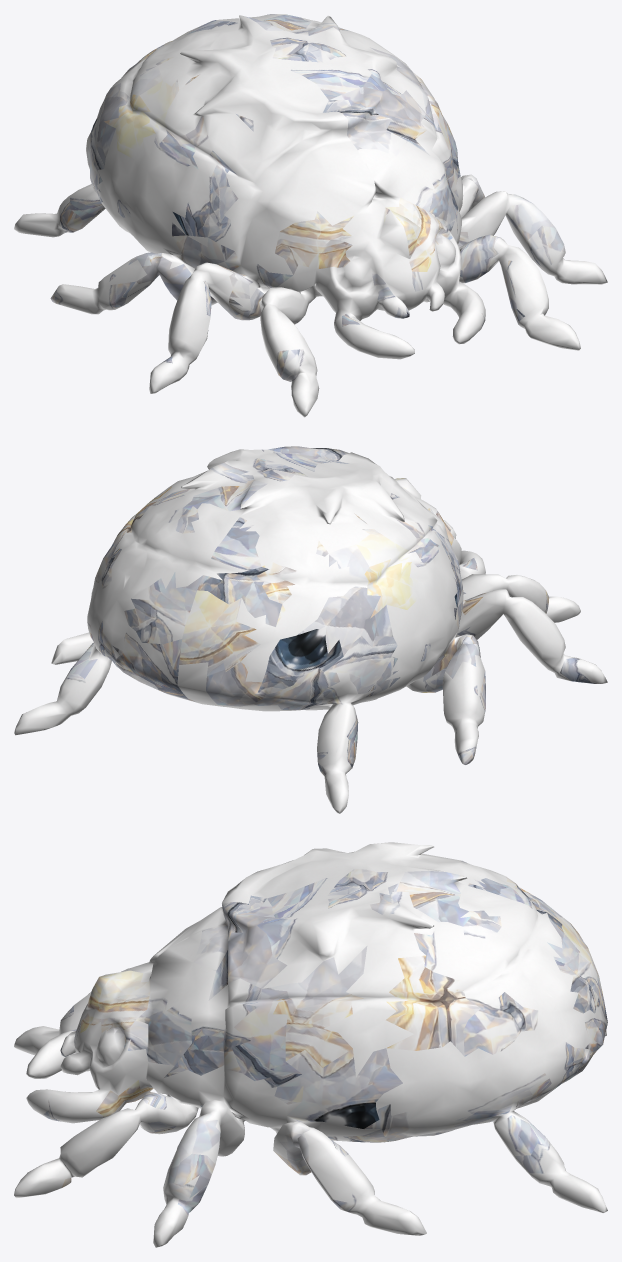
Rendered from sun_scarab_basic_7500tris.fbx.
3 renders of one model, top to bottom at view 1: azimuth 30°, elevation 25°; view 2: azimuth 150°, elevation 25°; view 3: azimuth 270°, elevation 25°, orthographic. The views are drawn at different scales.
Parts seen in each view (by area): view 1: sun_scarab_basic_decimated; view 2: sun_scarab_basic_decimated; view 3: sun_scarab_basic_decimated.
Part boxes in pixels (box(x1,y1,x2,y2)): sun_scarab_basic_decimated: box(14, 14, 607, 417); sun_scarab_basic_decimated: box(14, 446, 607, 813); sun_scarab_basic_decimated: box(14, 842, 607, 1247).
Size of the model in its own units: 1.89 by 0.8965 by 1.9.
